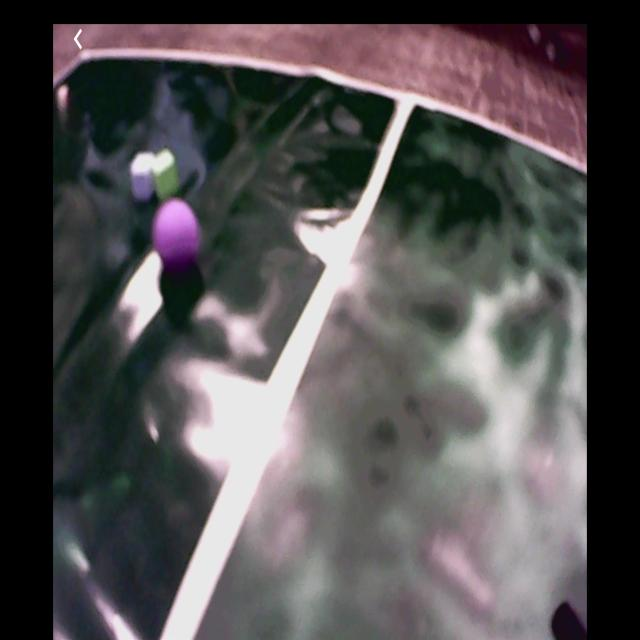ball: (156, 201, 201, 269)
